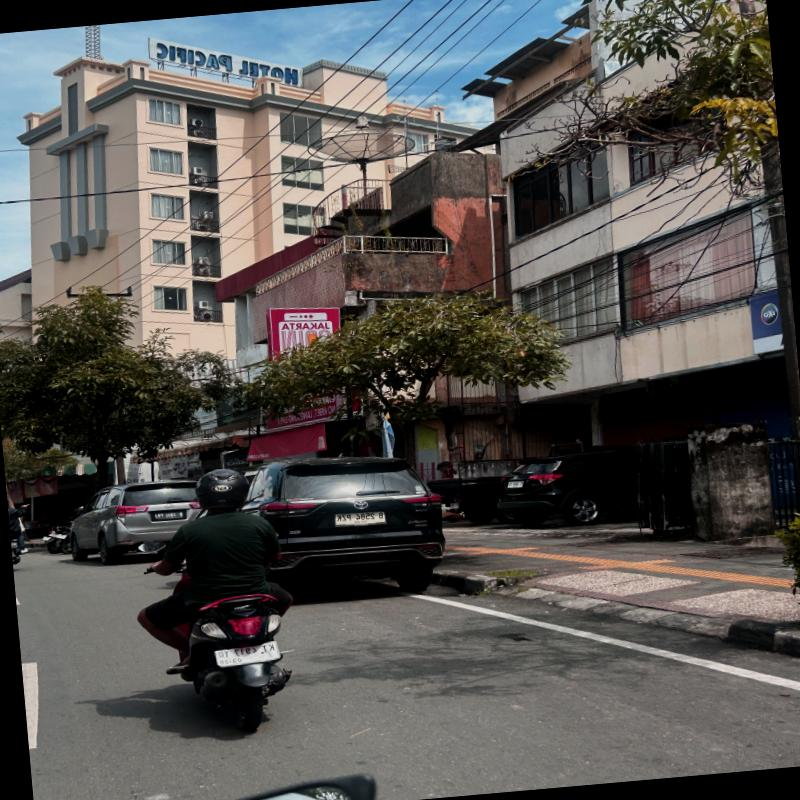license plate on a car: (335, 511, 386, 526), (154, 510, 183, 520), (507, 481, 524, 488)
